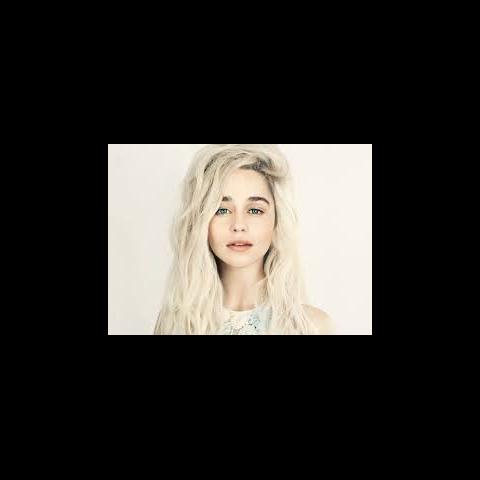opened: (204, 195, 272, 222)
